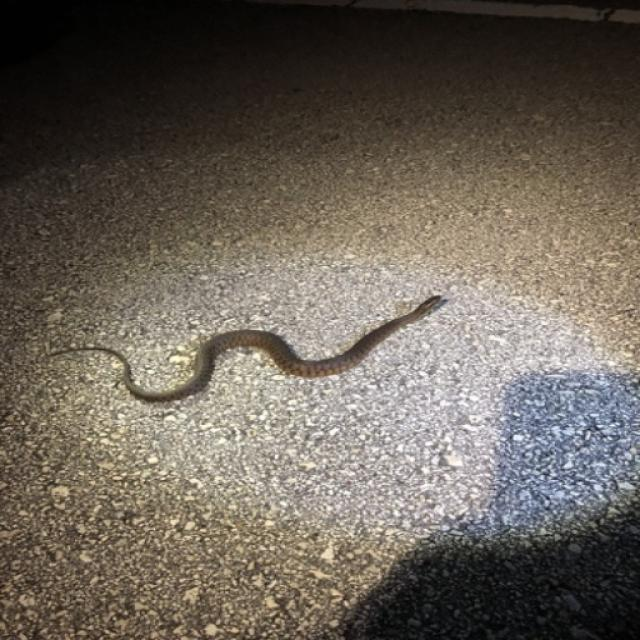snake: (44, 292, 489, 410)
